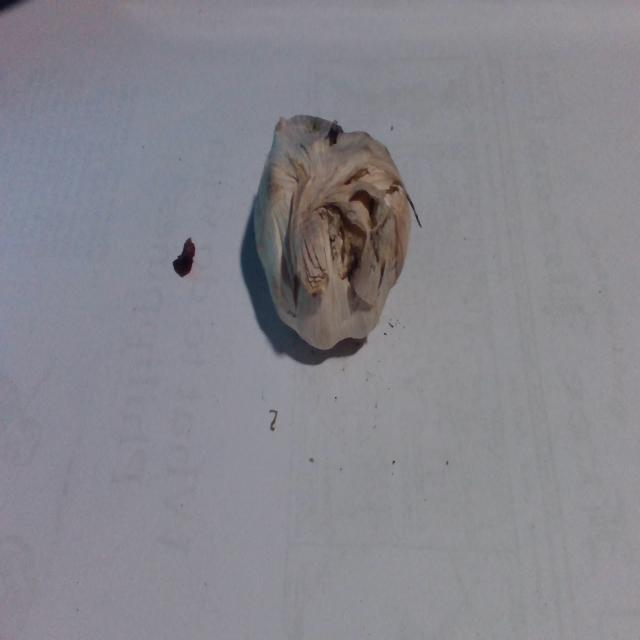garlic: (251, 112, 413, 364)
